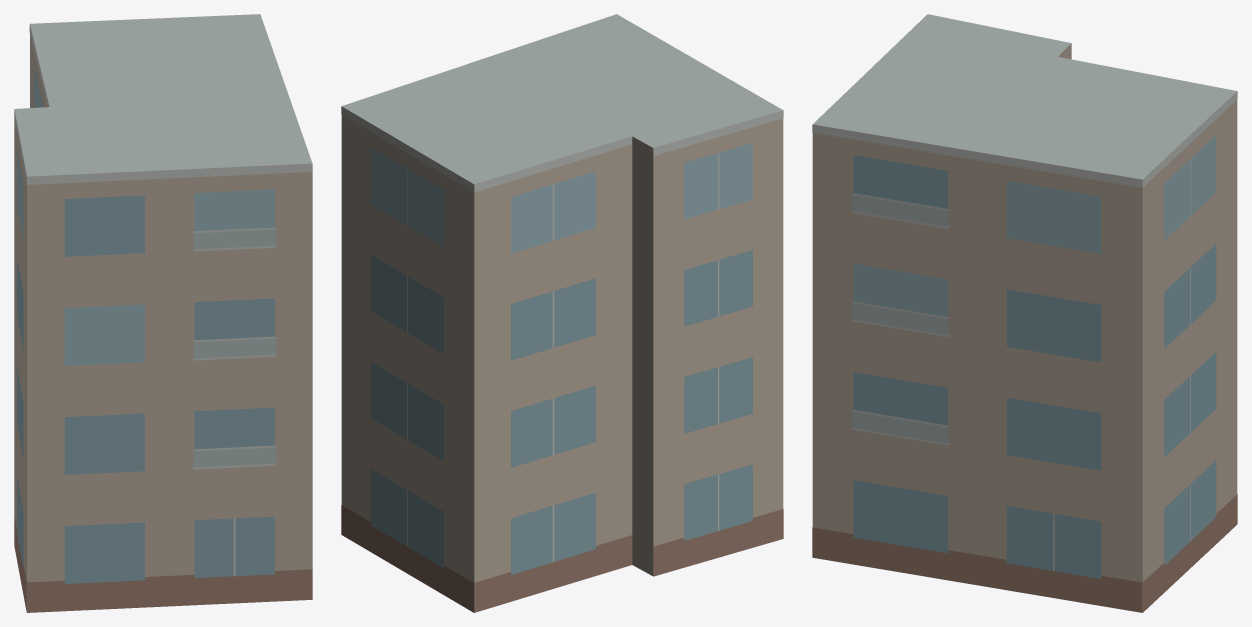
File: survey-upis-32728734.glb
3 renders of one model, left to right at view 1: azimuth 30°, elevation 25°; view 2: azimuth 150°, elevation 25°; view 3: azimuth 270°, elevation 25°, orthographic.
Parts seen in each view (by area): view 1: survey-upis-32728734.tmp; view 2: survey-upis-32728734.tmp; view 3: survey-upis-32728734.tmp.
Part boxes in pixels (<box>): survey-upis-32728734.tmp: <box>14,14,312,612</box>; survey-upis-32728734.tmp: <box>341,14,783,612</box>; survey-upis-32728734.tmp: <box>812,14,1237,612</box>.
Size of the model in its own units: 10.5 by 12.8 by 11.39.
